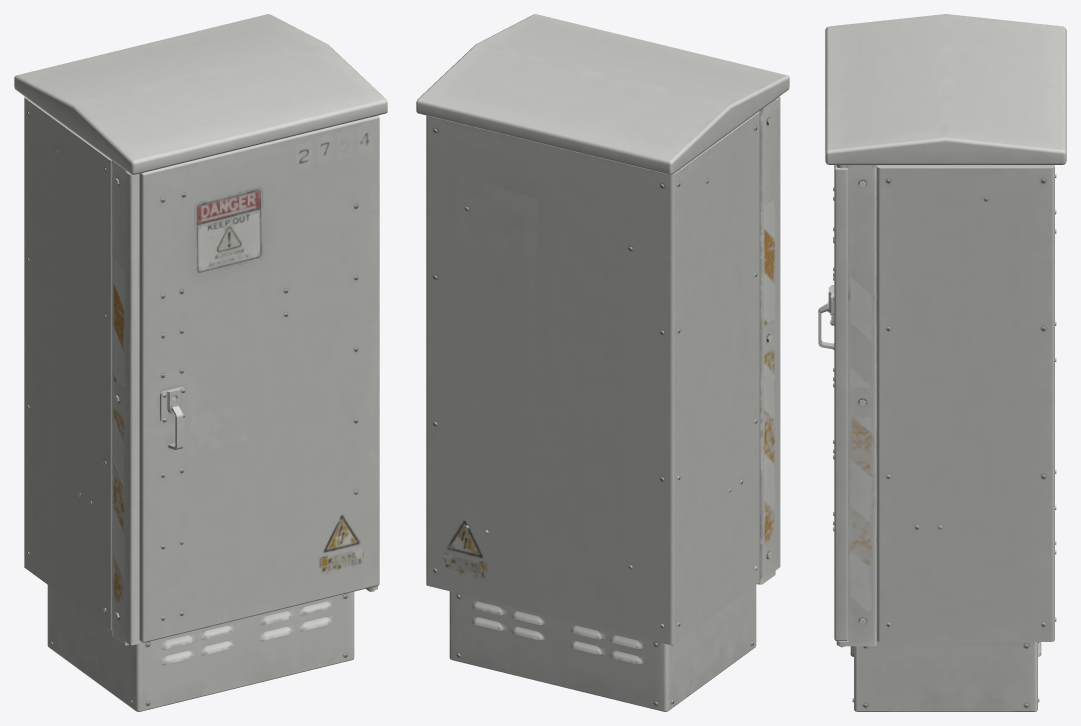
File: utility_box_01.glb
The picture shows the model from 3 angles, left to right: view 1: azimuth 30°, elevation 25°; view 2: azimuth 150°, elevation 25°; view 3: azimuth 270°, elevation 25°; orthographic projection.
Parts seen in each view (by area): view 1: utility_box_01_box; view 2: utility_box_01_box; view 3: utility_box_01_box.
Boxes of the visible parts, x1,y1,x2,y2 form: utility_box_01_box: (14,14,387,711); utility_box_01_box: (416,14,789,711); utility_box_01_box: (818,14,1066,711).
Bounding box in the file's own units: 0.52 × 1.12 × 0.4319.
Materials: 1 (1 with a texture image).
